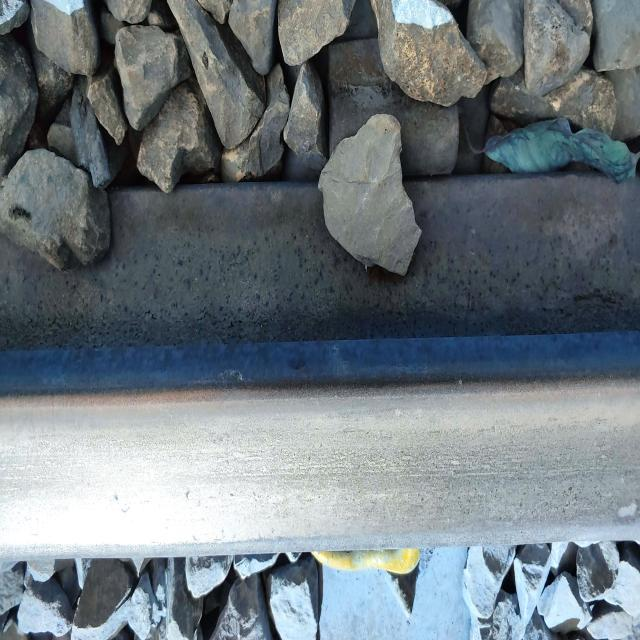Good Fasteners: (312, 548, 420, 575)
Missing Fastener: (328, 37, 464, 178)
